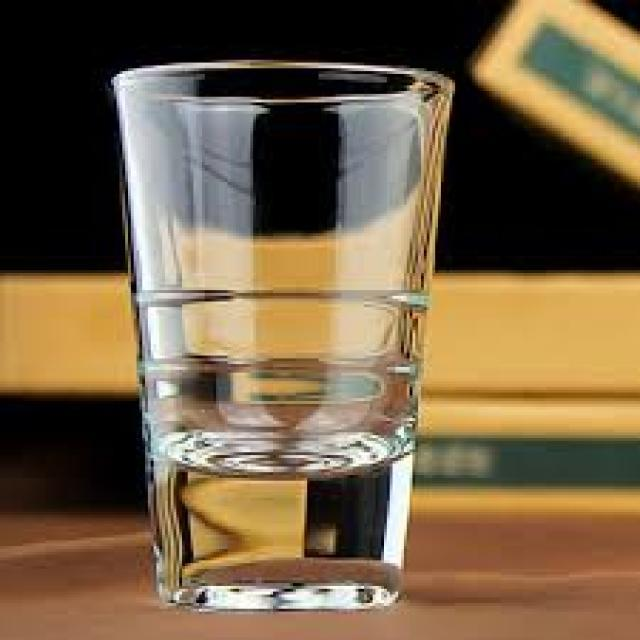Glass: (113, 63, 452, 613)
